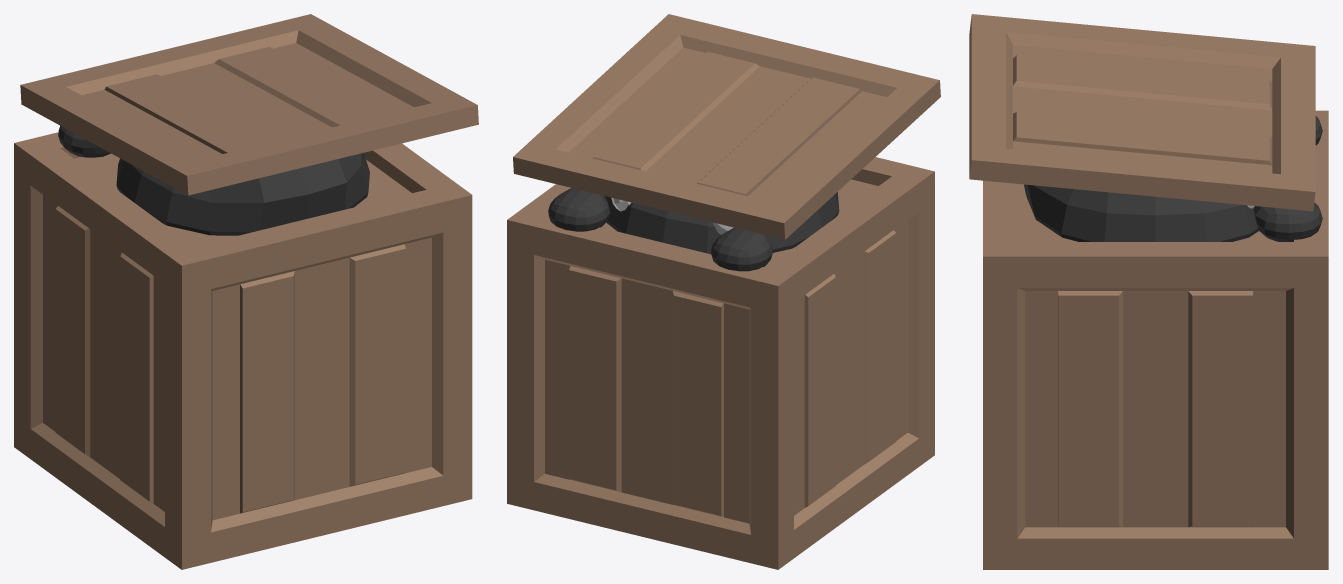
The model's file is Slime.fbx.
3 views of the same model, side by side, from view 1: azimuth 30°, elevation 25°; view 2: azimuth 150°, elevation 25°; view 3: azimuth 270°, elevation 25° (orthographic). The views are drawn at different scales.
Visible parts, largest first — view 1: Slime; view 2: Slime; view 3: Slime.
Boxes of the visible parts, box(x1,y1,x2,y2) form: Slime: box(14, 14, 478, 569); Slime: box(507, 14, 940, 569); Slime: box(969, 14, 1328, 569).
Bounding box in the file's own units: 100 × 131 × 104.
